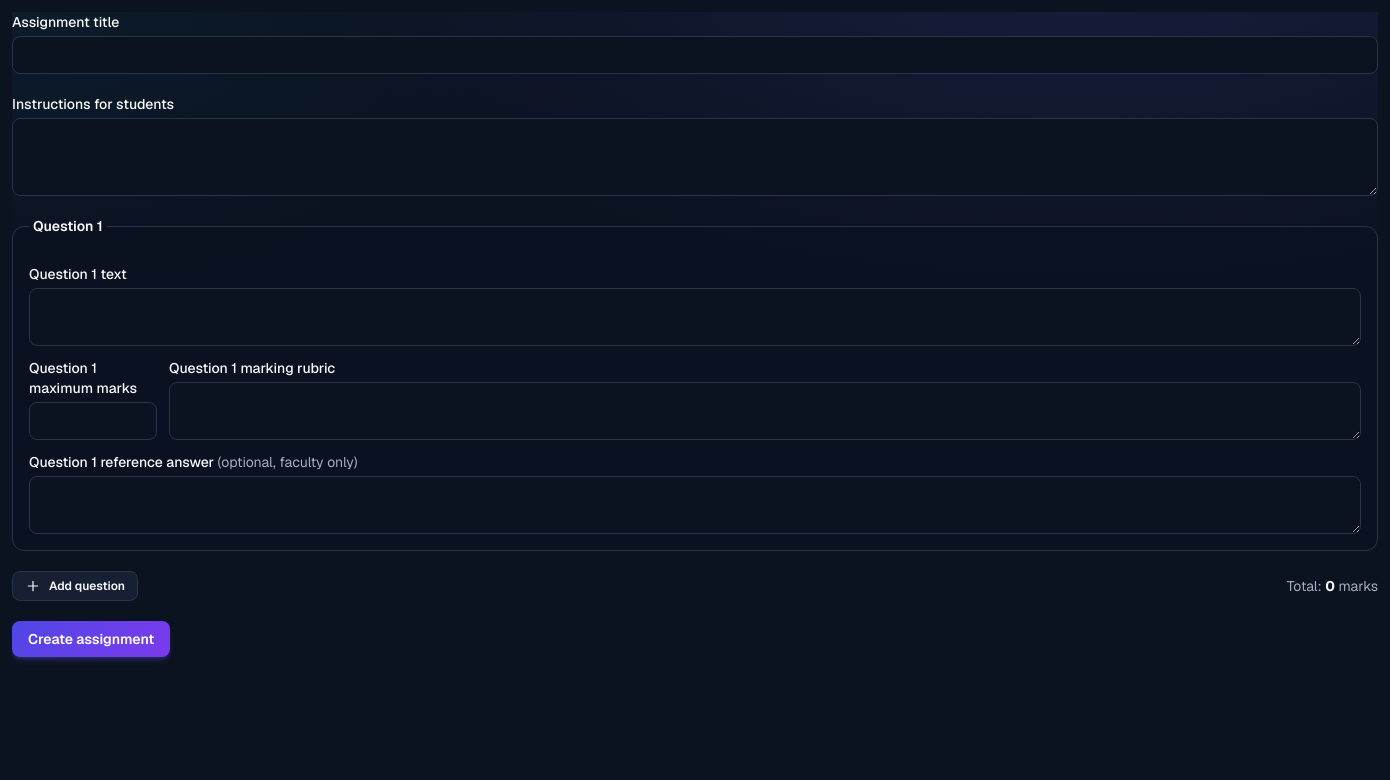
Test: AssignmentForm › submits the validated numbers, then shows a confirmation and clears the form
In the field labelled "Assignment title": (695,55) [12,36,1378,74], type "Loops and arrays"
In the text box labelled "Instructions for students": (695,157) [12,118,1378,196], type "Answer every question."
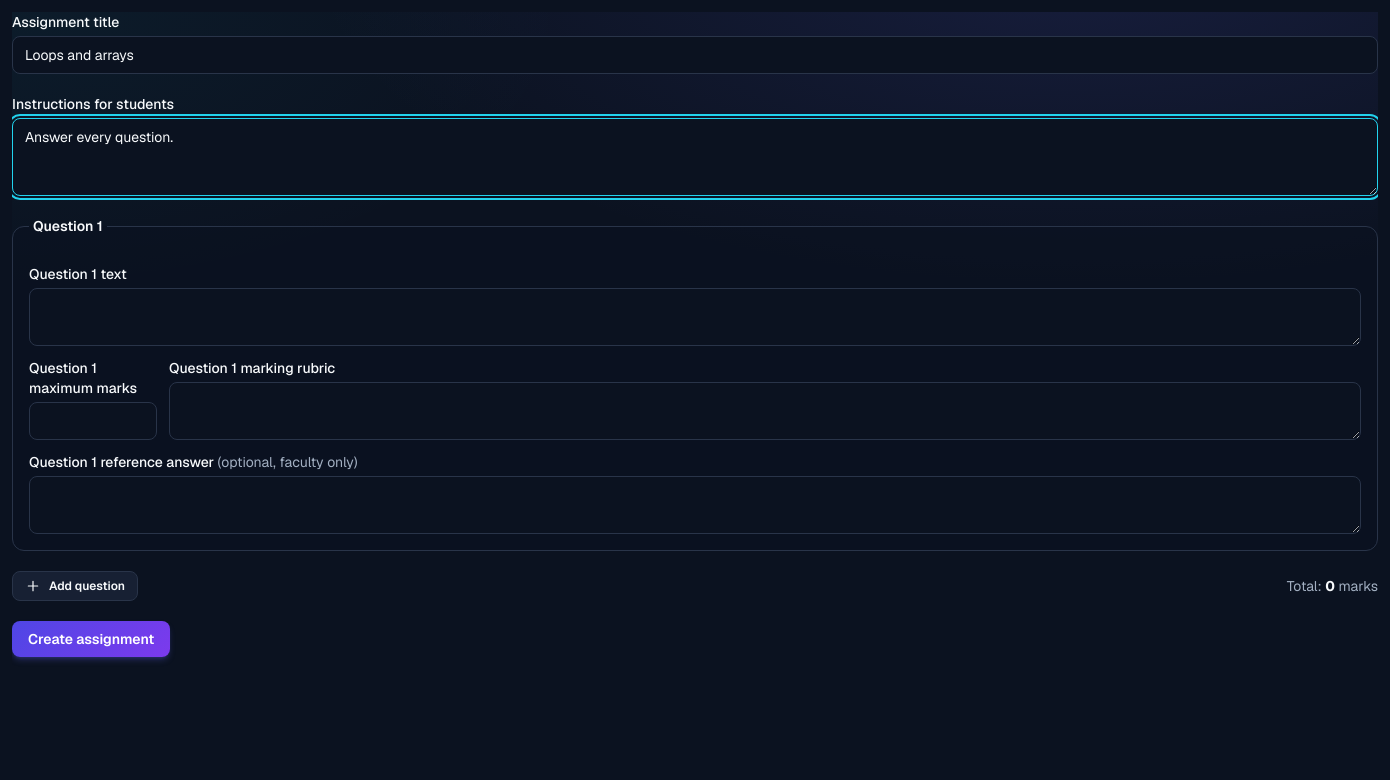
In the text box labelled "Question 1 text": (695,317) [29,288,1361,346], type "What does a loop do?"
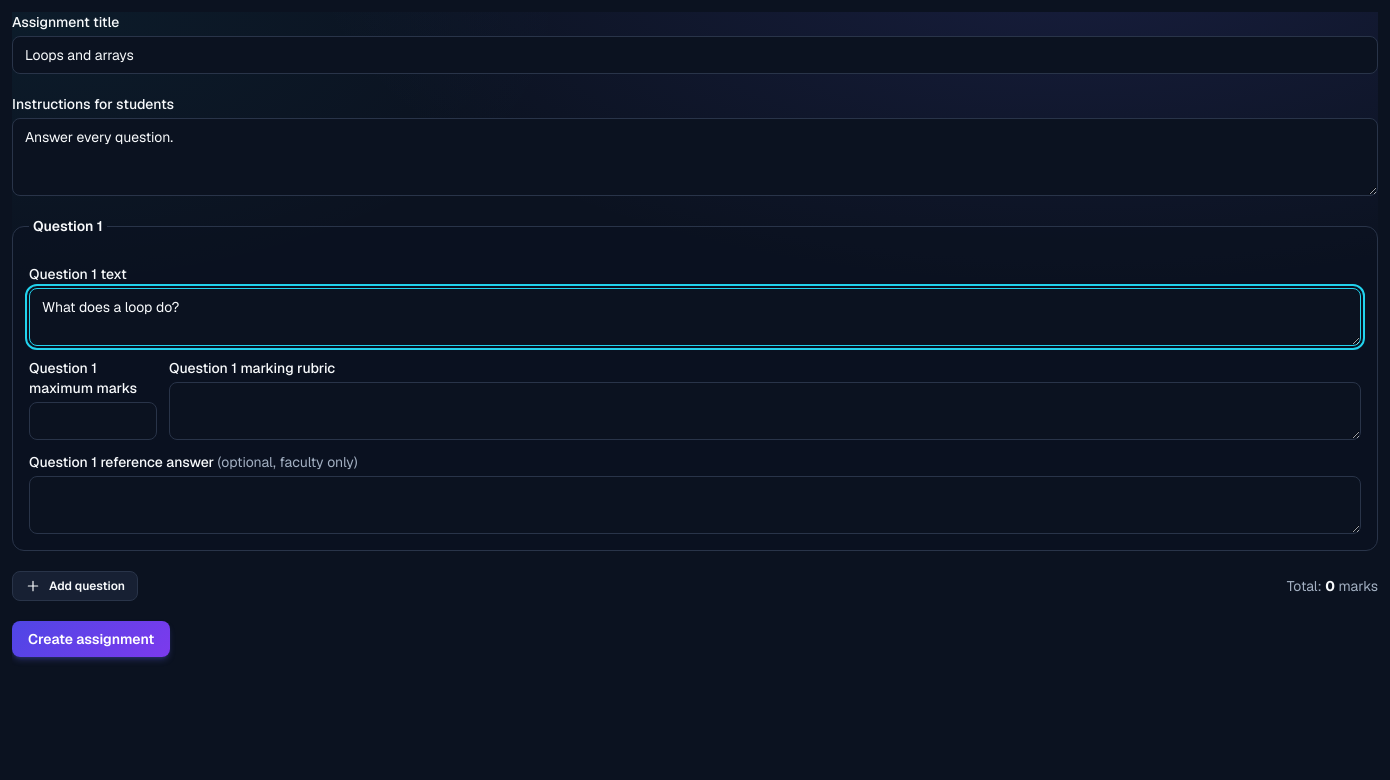
In the field labelled "Question 1 maximum marks": (93,421) [29,402,157,440], type "5"
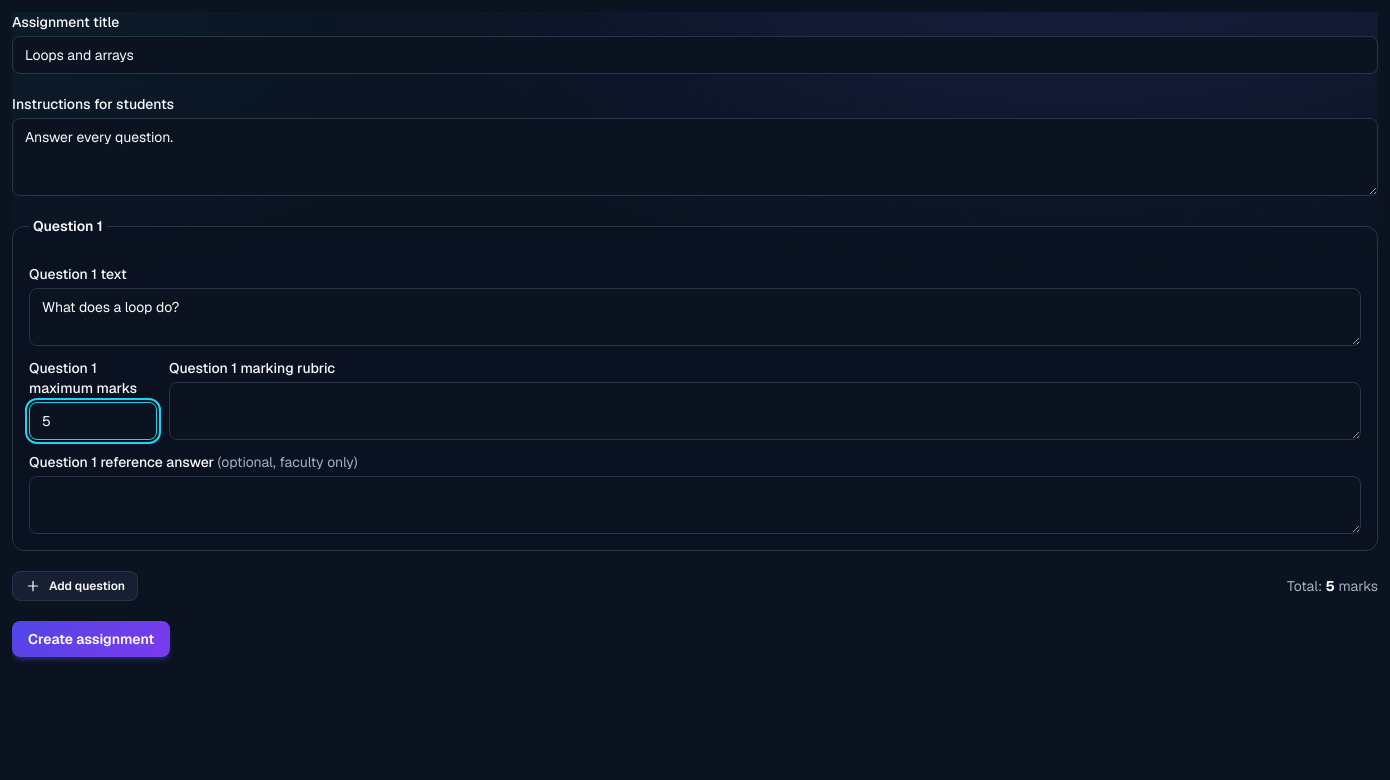
In the text box labelled "Question 1 marking rubric": (765,411) [169,382,1361,440], type "Mentions repetition."
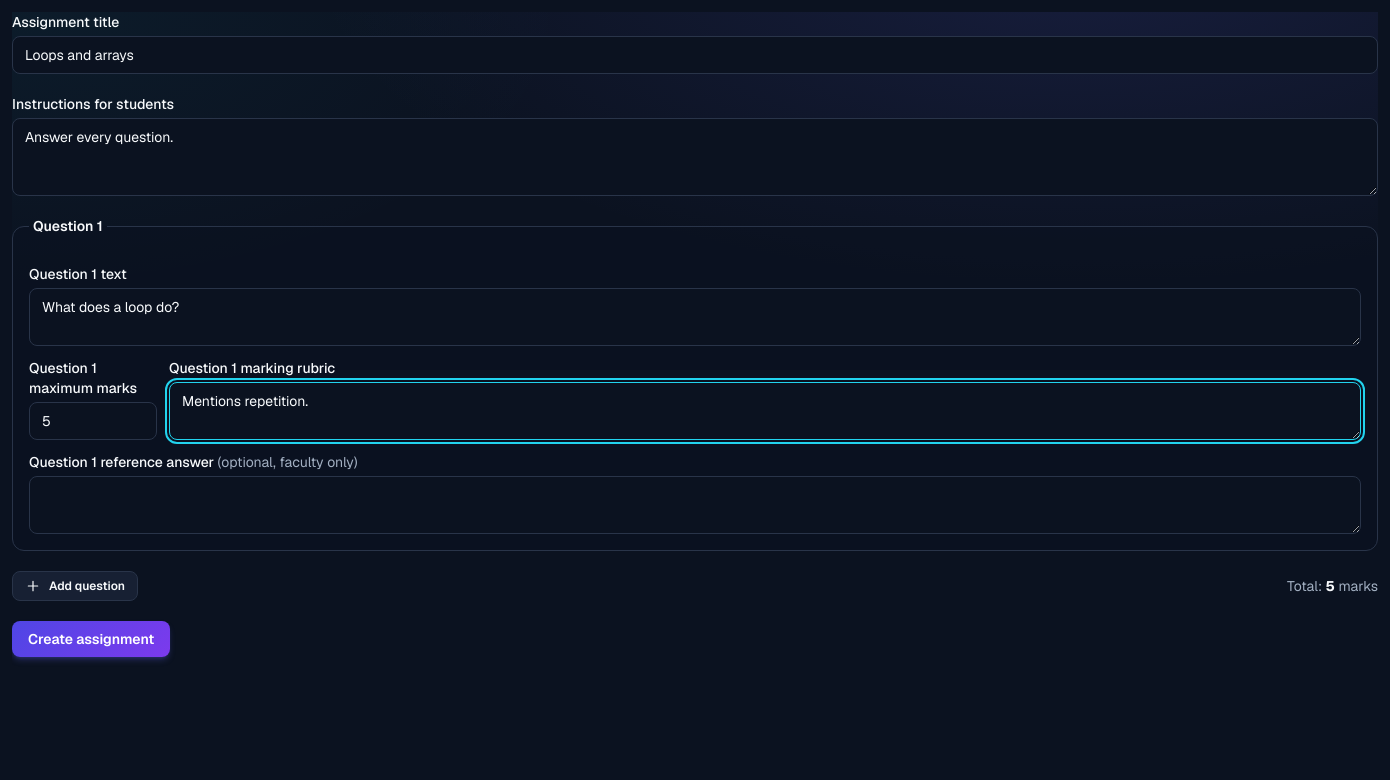
In the text box labelled "Question 1 reference answer (optional, faculty only)": (695,505) [29,476,1361,534], type "Repeats code."
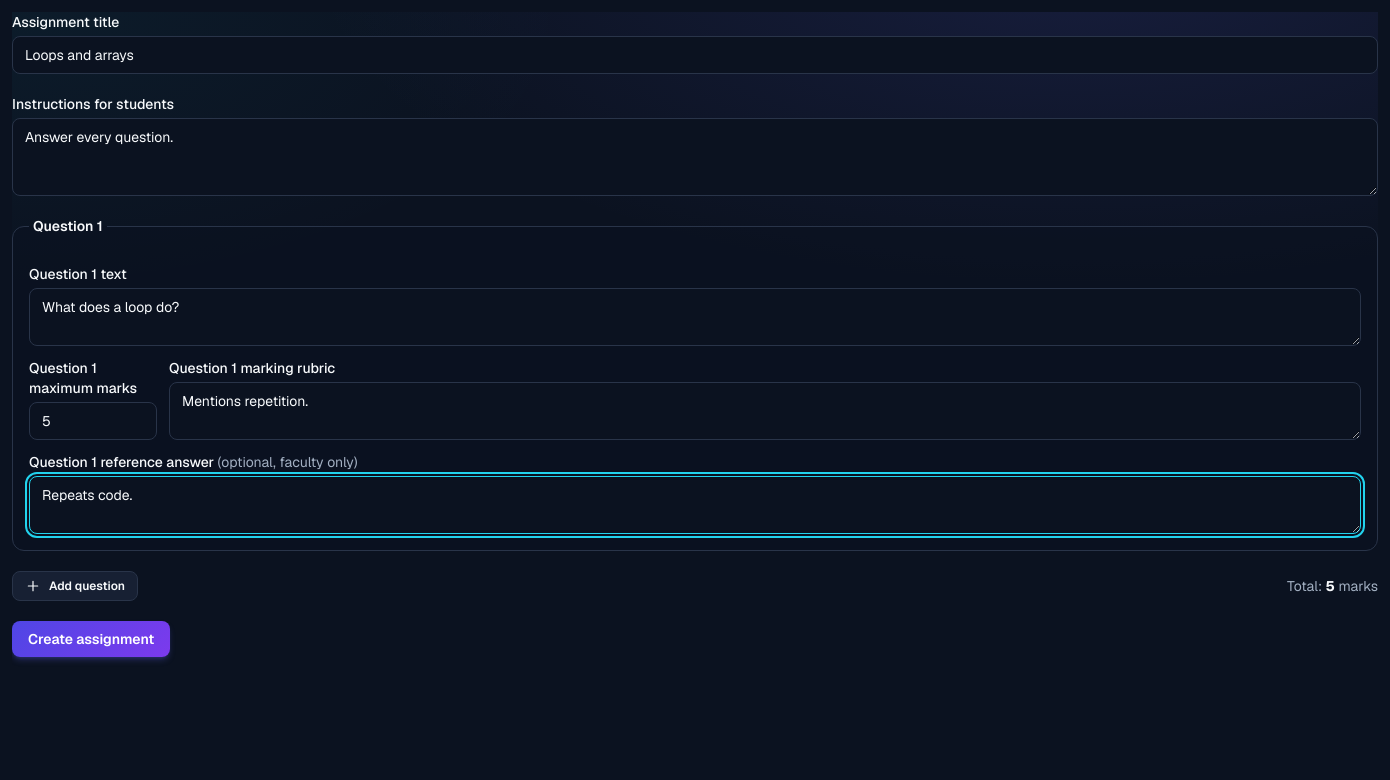
Click the button "Create assignment": (91,639) [12,621,170,657]
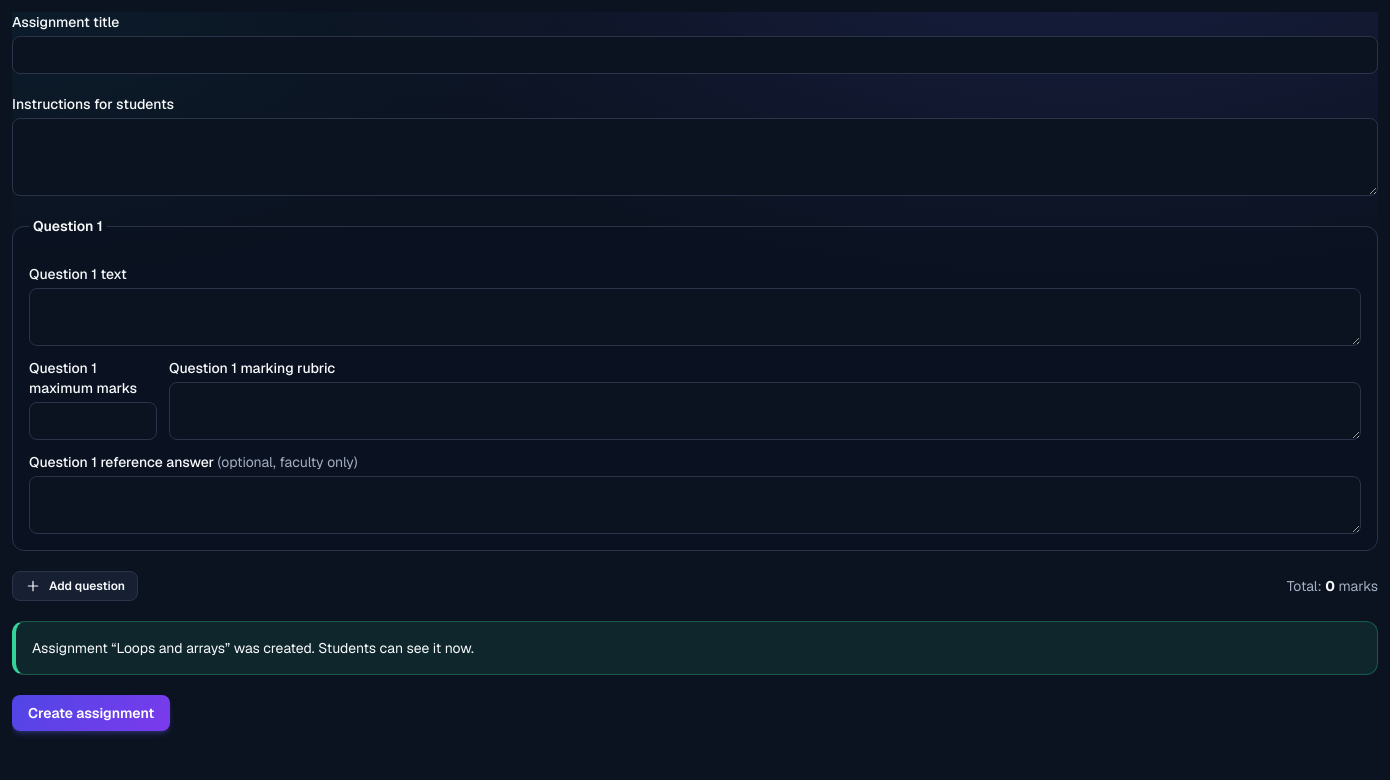
expect the message shows "Loops and arrays": met, box [116,639,225,657]
expect the field labelled "Assignment title" is empty: met, box [12,36,1378,74]
